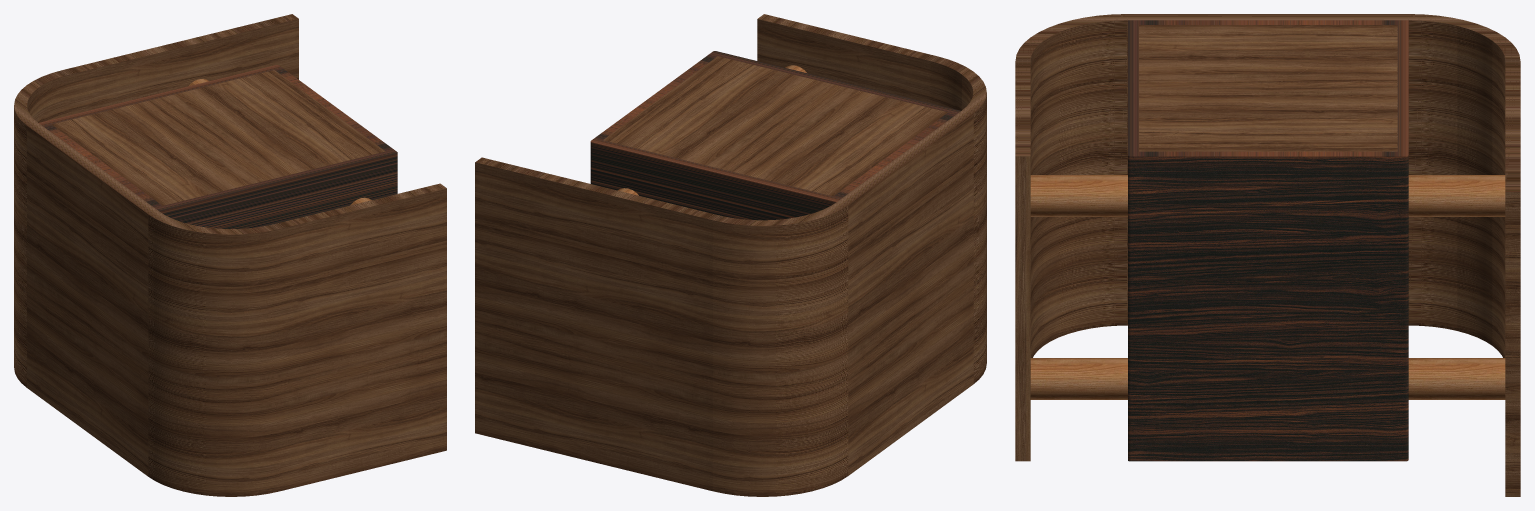
File: bedside.glb
3 renders of one model, left to right at view 1: azimuth 30°, elevation 25°; view 2: azimuth 150°, elevation 25°; view 3: azimuth 270°, elevation 25°, orthographic. The views are drawn at different scales.
Parts seen in each view (by area): view 1: Material2; view 2: Material2; view 3: Material2.
Part boxes in pixels (left/top/right/bottom): Material2: left=14, top=14, right=446, bottom=496; Material2: left=475, top=14, right=986, bottom=496; Material2: left=1015, top=14, right=1520, bottom=496.
Bounding box in the file's own units: 0.45 × 0.36 × 0.54.
6 materials, 6 textured.
